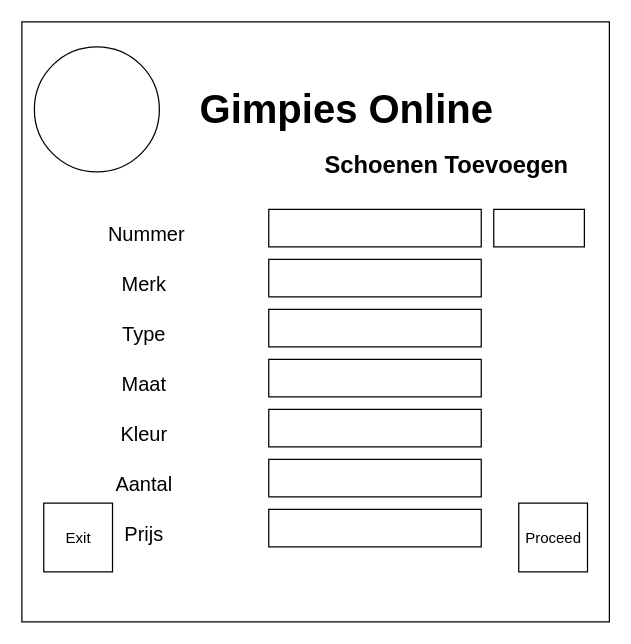
Some shapes in this 631 by 644 pixel diagram are drawn without their labels. Each missing label, with the centre of its shape:
"Check" belongs at [538,227].
"Logo" belongs at [96,109].
